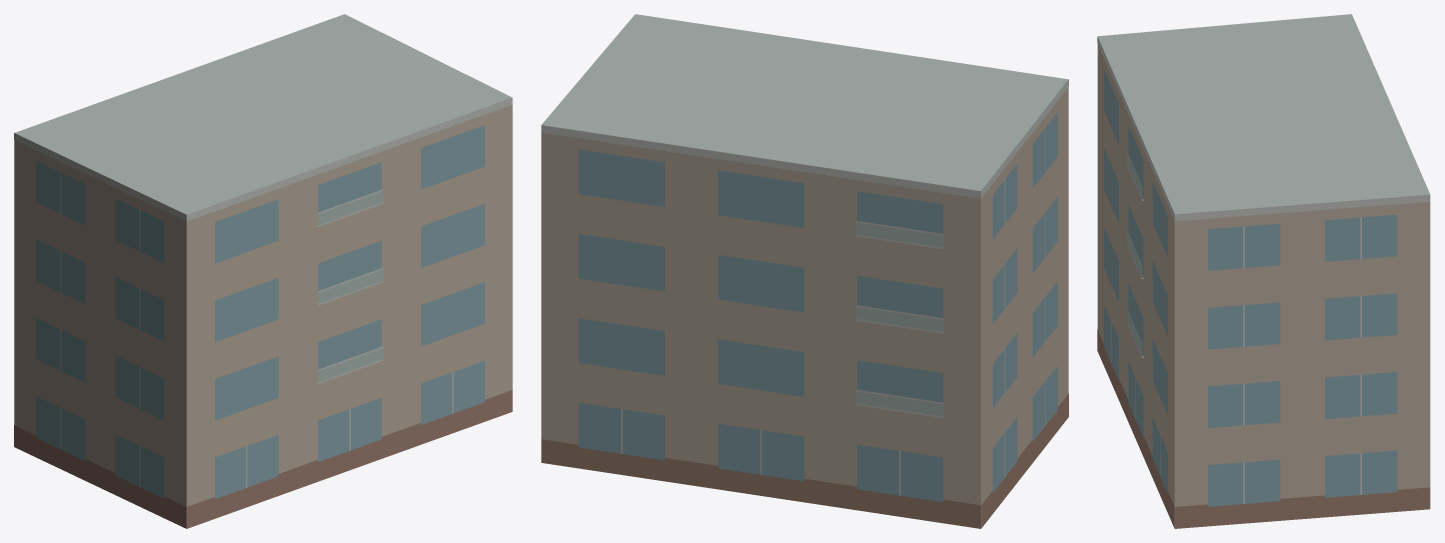
The model's file is survey-upis-32777408.glb.
The picture shows the model from 3 angles, left to right: view 1: azimuth 30°, elevation 25°; view 2: azimuth 150°, elevation 25°; view 3: azimuth 270°, elevation 25°; orthographic projection. The views are drawn at different scales.
Parts seen in each view (by area): view 1: survey-upis-32777408.tmp; view 2: survey-upis-32777408.tmp; view 3: survey-upis-32777408.tmp.
Boxes of the visible parts, box(x1,y1,x2,y2) form: survey-upis-32777408.tmp: box(14, 14, 512, 528); survey-upis-32777408.tmp: box(541, 14, 1068, 528); survey-upis-32777408.tmp: box(1097, 14, 1430, 528).
Bounding box in the file's own units: 15.04 × 11 × 10.56.
